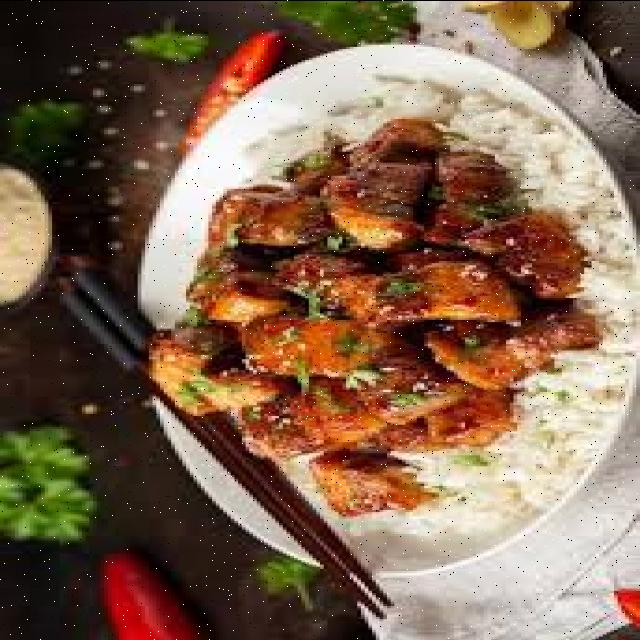Pork: (149, 118, 595, 513)
Rice: (138, 46, 636, 574), (153, 400, 309, 561)
